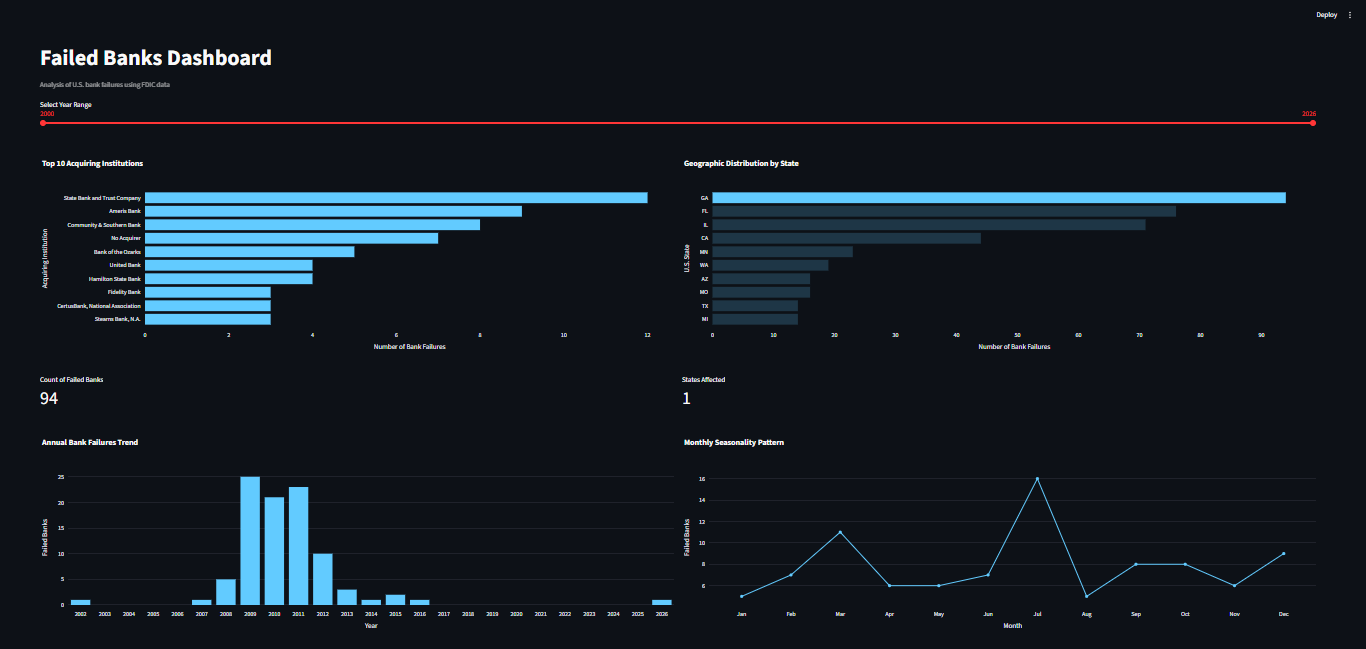

Layout of this report page (visuals, bound fields, positions):
{"tool":"powerbi","page":{"name":"Overview","canvas":[1280,720],"ordinal":0},"visuals":[{"type":"shape","box":[667.5,472.5,612.5,242.5],"z":1000},{"type":"shape","box":[0,471.7,651.7,243.3],"z":2000},{"type":"shape","box":[0,205.1,712.6,271.7],"z":2500},{"type":"shape","box":[712.6,205.1,567.4,271.7],"z":2750},{"type":"barChart","title":"Geographic Distribution by State","fields":{"Category":["Failed Banks.State "],"Y":["CountNonNull(Failed Banks.Bank Name )"]},"box":[726,218,554,254],"z":3000},{"type":"lineStackedColumnComboChart","title":"Annual Bank Failures Trend","fields":{"Category":["Calendar.Date.Variation.Date Hierarchy.Year","Calendar.Date.Variation.Date Hierarchy.Month"],"Y":["CountNonNull(Failed Banks.Bank Name )"]},"box":[0,480,640,240],"z":4000},{"type":"lineChart","title":"Monthly Seasonality Pattern","fields":{"Category":["Calendar.Month"],"Y":["CountNonNull(Failed Banks.Bank Name )"]},"box":[665,480,612.5,240],"z":5000},{"type":"textbox","box":[0,0,1264.3,70.6],"z":6000},{"type":"cardVisual","fields":{"Data":["Count(Failed Banks.State )"]},"box":[268.8,77.5,250,140],"z":7000},{"type":"slicer","title":"Year","fields":{"Values":["Calendar.Year"]},"box":[727.2,95,544.3,113.8],"z":8000},{"type":"clusteredBarChart","title":"Top Acquiring Institution ","fields":{"Category":["Failed Banks.Acquiring Institution "],"Y":["CountNonNull(Failed Banks.Bank Name )"]},"box":[0,218,698,254],"z":9000},{"type":"cardVisual","fields":{"Data":["_measuress.Count of Failed Banks"]},"box":[0,77.5,252.5,140],"z":10000}]}

Visuals, with their boxes on the page's 1280x720 design canvas (x1, y1, x2, y2). These are canvas units, not pixel positions in the 1366x649 screenshot, which may show the page scaled, cropped or inside an application window:
shape: [left=668, top=472, right=1280, bottom=715]
shape: [left=0, top=472, right=652, bottom=715]
shape: [left=0, top=205, right=713, bottom=477]
shape: [left=713, top=205, right=1280, bottom=477]
"Geographic Distribution by State" barChart: [left=726, top=218, right=1280, bottom=472]
"Annual Bank Failures Trend" lineStackedColumnComboChart: [left=0, top=480, right=640, bottom=720]
"Monthly Seasonality Pattern" lineChart: [left=665, top=480, right=1278, bottom=720]
textbox: [left=0, top=0, right=1264, bottom=71]
cardVisual - Count(Failed Banks.State ): [left=269, top=78, right=519, bottom=218]
"Year" slicer: [left=727, top=95, right=1272, bottom=209]
"Top Acquiring Institution " clusteredBarChart: [left=0, top=218, right=698, bottom=472]
cardVisual - _measuress.Count of Failed Banks: [left=0, top=78, right=252, bottom=218]
